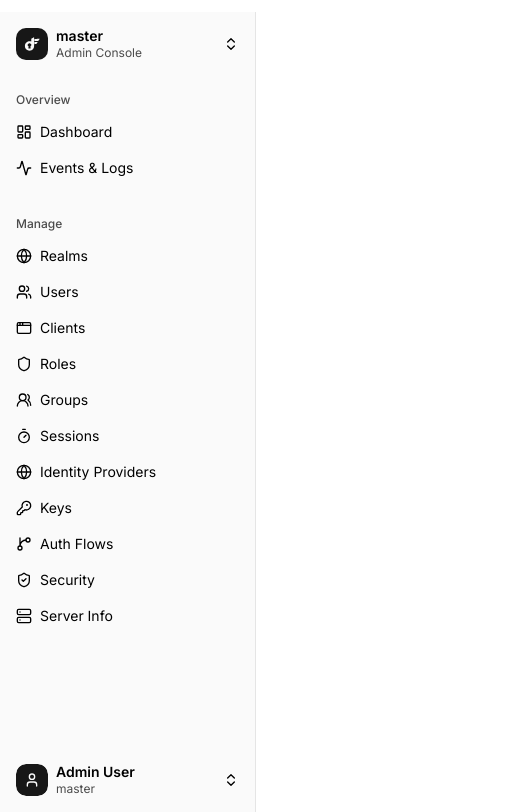
AppSidebar RealmSwitcher › lists realms in an inline dropdown and switches on click
The image size is (511, 812).
Click the 1st text "master". click: {"x": 80, "y": 36}
box: [56,27,103,44]
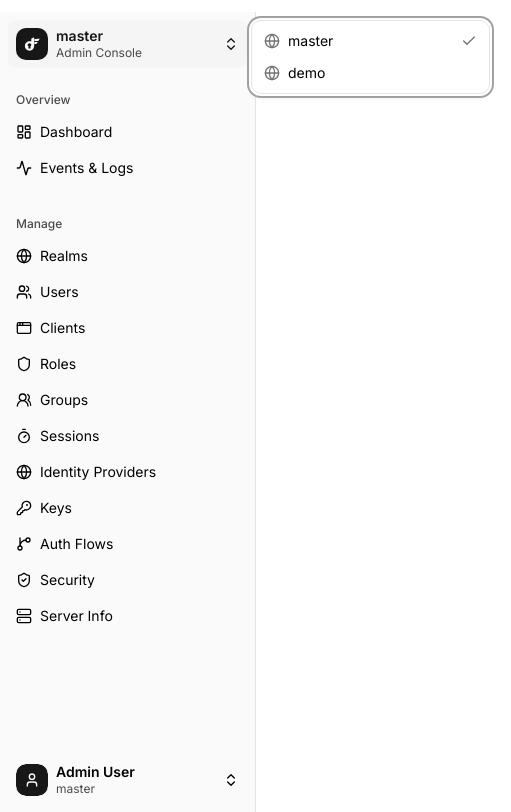
Click the menu item "demo". click: {"x": 295, "y": 72}
box: [264,64,325,81]
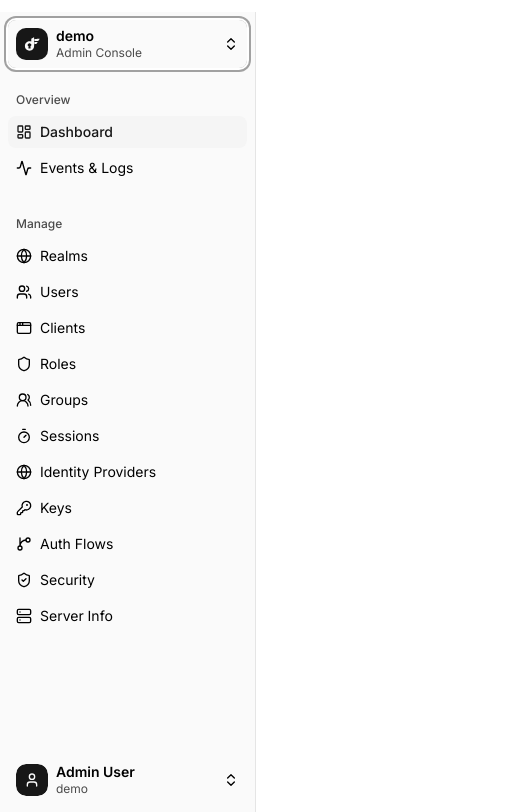
Expected: the 1st text "master" reads "demo", [56,27,94,44]
